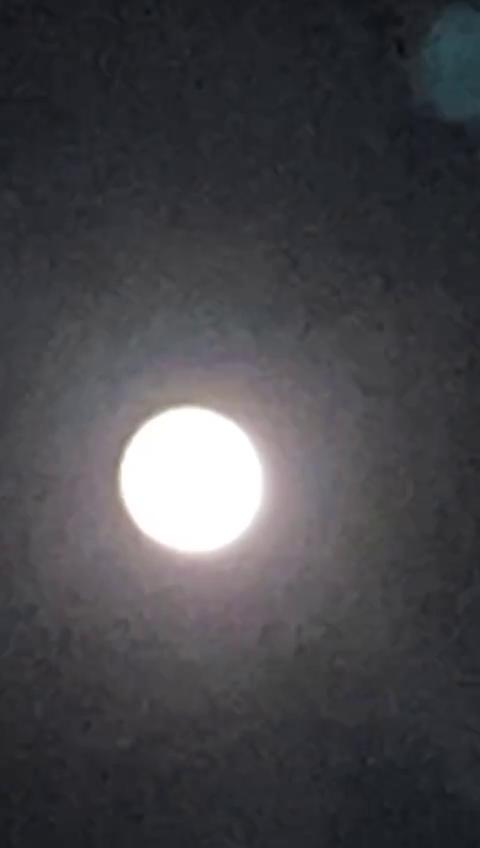moon: (103, 388, 270, 579)
